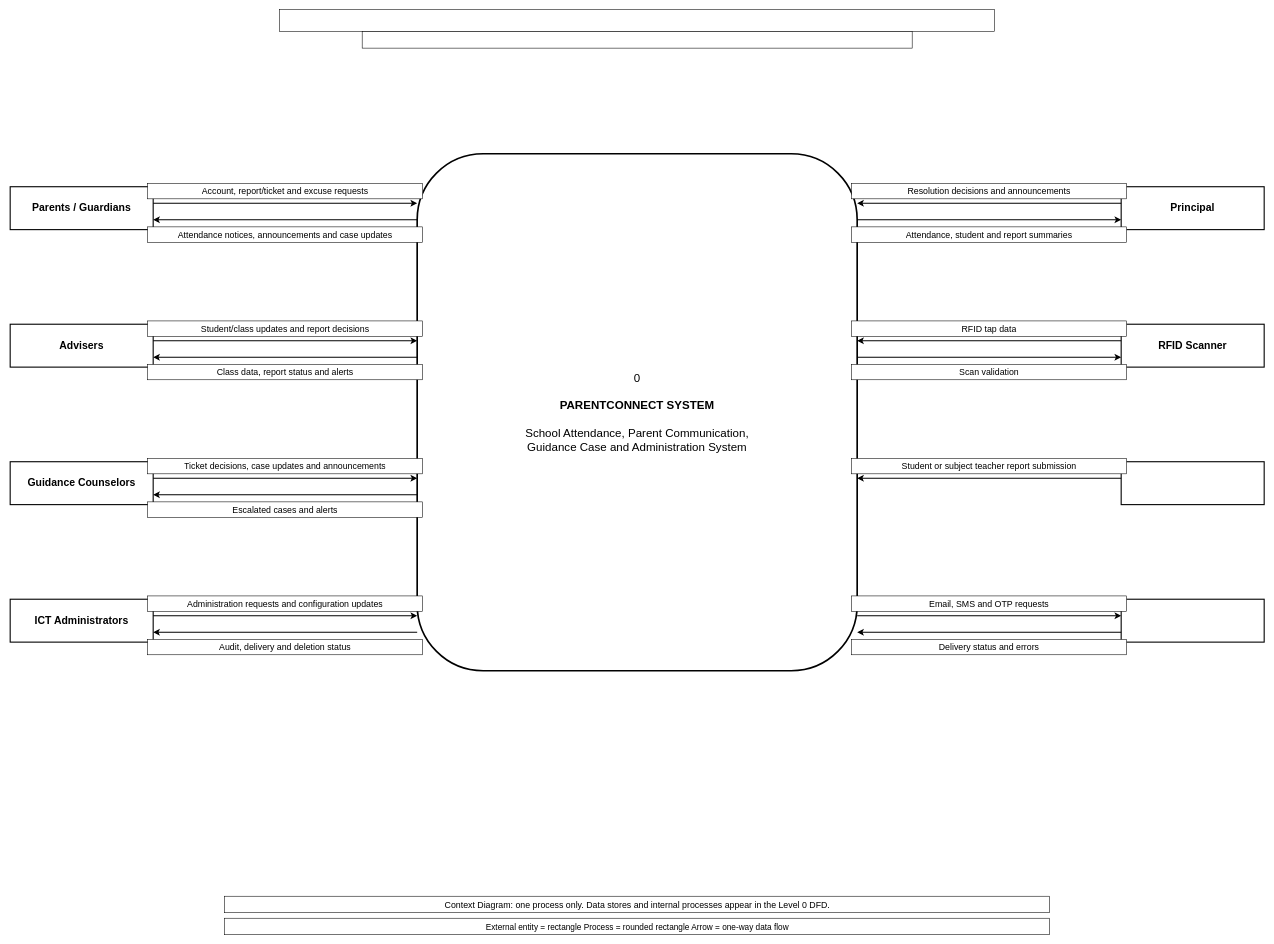
The diagram is 1274 pixels wide and 944 high, and some of its shapes have lost their labels. The centre of each missing label's shape, as x and y in pixels:
"Email / SMS Provider" goes at (1192,620).
"External entities and the data exchanged with Process 0" goes at (637,39).
"PARENTCONNECT CONTEXT DIAGRAM" goes at (637,20).
"Students / Subject Teachers" goes at (1192,483).
